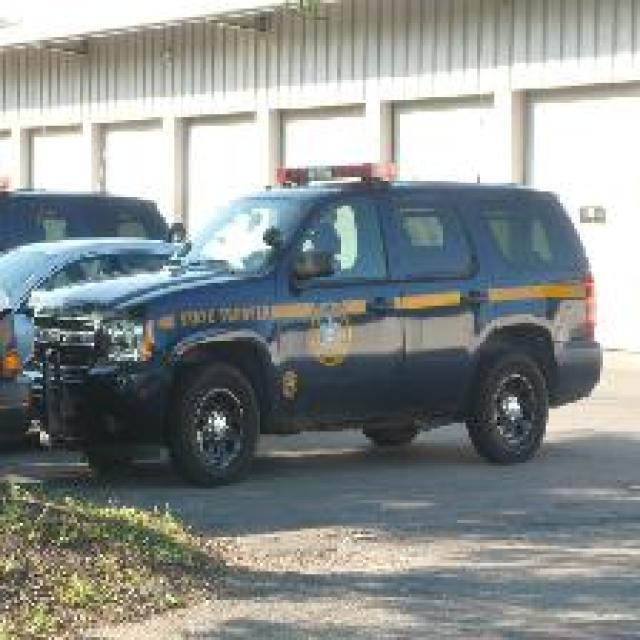emergency: (18, 160, 606, 488)
